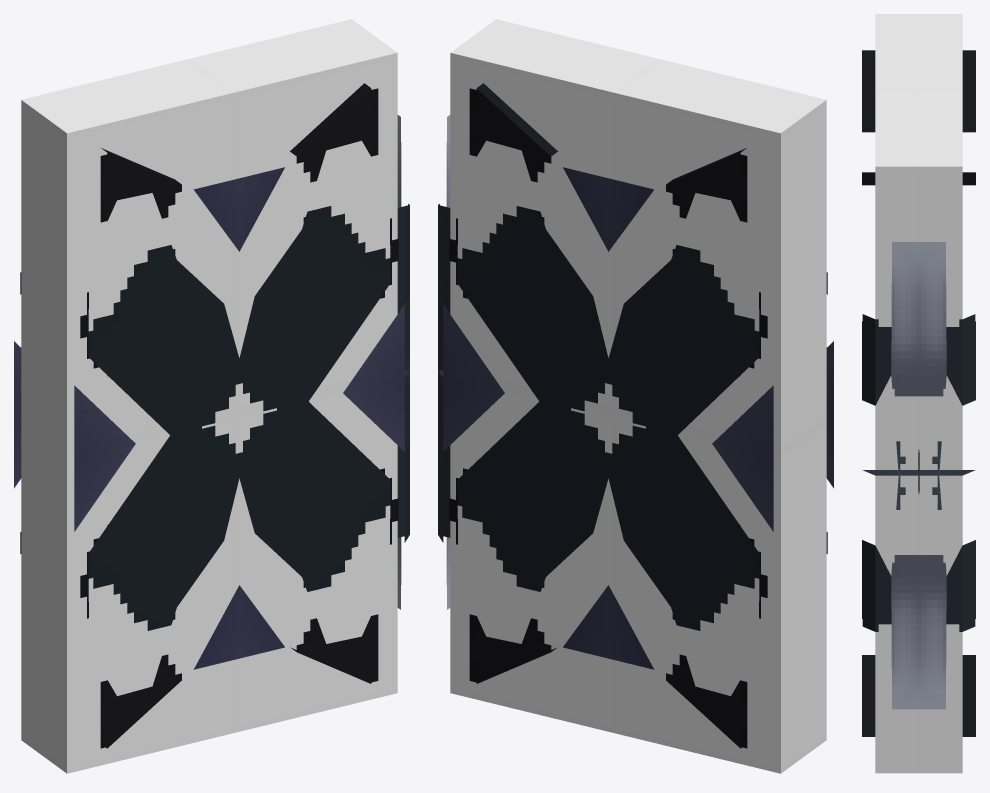
File: blackprimer.obj
3 views of the same model, side by side, from view 1: azimuth 30°, elevation 25°; view 2: azimuth 150°, elevation 25°; view 3: azimuth 270°, elevation 25° (orthographic). The views are drawn at different scales.
Bounding box in the file's own units: 56 × 100 × 17.
